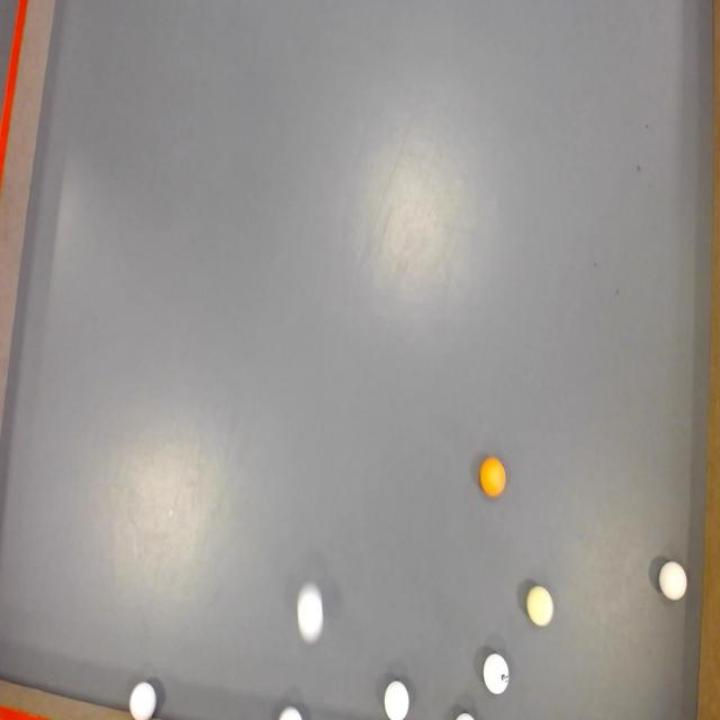orange: (480, 455, 509, 500)
white: (296, 582, 327, 642), (656, 554, 690, 606), (523, 578, 555, 630), (126, 675, 158, 720), (482, 650, 511, 696), (382, 676, 411, 720)
